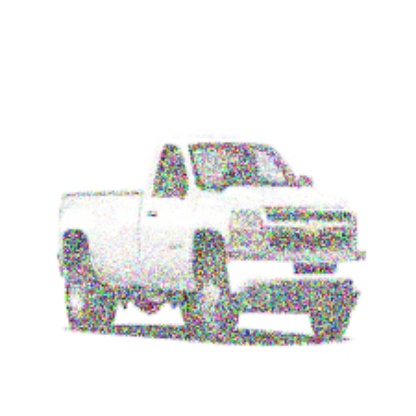Vehicle: (58, 140, 369, 347)
